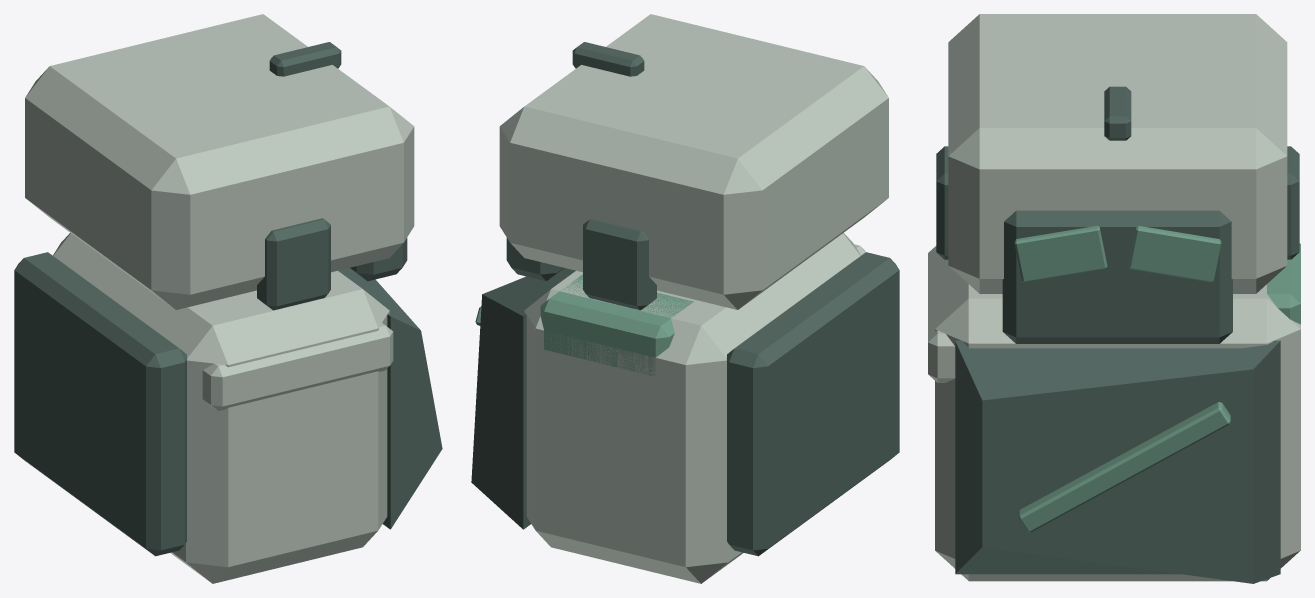
Rendered from vector.signature.glb.
The picture shows the model from 3 angles, left to right: view 1: azimuth 30°, elevation 25°; view 2: azimuth 150°, elevation 25°; view 3: azimuth 270°, elevation 25°; orthographic projection. The views are drawn at different scales.
Visible parts, largest first — view 1: vector_signature__main__torso, vector_signature__main__head, vector_signature__main__torso_cosmetic_526761_0.12, vector_signature__main__head_cosmetic_526761_0.16; view 2: vector_signature__main__torso, vector_signature__main__head, vector_signature__main__torso_cosmetic_526761_0.12, vector_signature__main__head_cosmetic_526761_0.16; view 3: vector_signature__main__head, vector_signature__main__torso_cosmetic_526761_0.12, vector_signature__main__torso, vector_signature__main__head_cosmetic_526761_0.16.
Boxes of the visible parts, x1,y1,x2,y2 form: vector_signature__main__torso: (14,233,393,583); vector_signature__main__head: (25,14,414,310); vector_signature__main__torso_cosmetic_526761_0.12: (338,268,442,529); vector_signature__main__head_cosmetic_526761_0.16: (349,238,407,281); vector_signature__main__torso: (475,233,899,583); vector_signature__main__head: (499,14,888,310); vector_signature__main__torso_cosmetic_526761_0.12: (471,268,575,529); vector_signature__main__head_cosmetic_526761_0.16: (506,238,564,281); vector_signature__main__head: (936,14,1299,293); vector_signature__main__torso_cosmetic_526761_0.12: (955,340,1280,583); vector_signature__main__torso: (928,243,1300,581); vector_signature__main__head_cosmetic_526761_0.16: (1002,210,1232,343).
Bounding box in the file's own units: 28.7 × 39.5 × 27.5.
